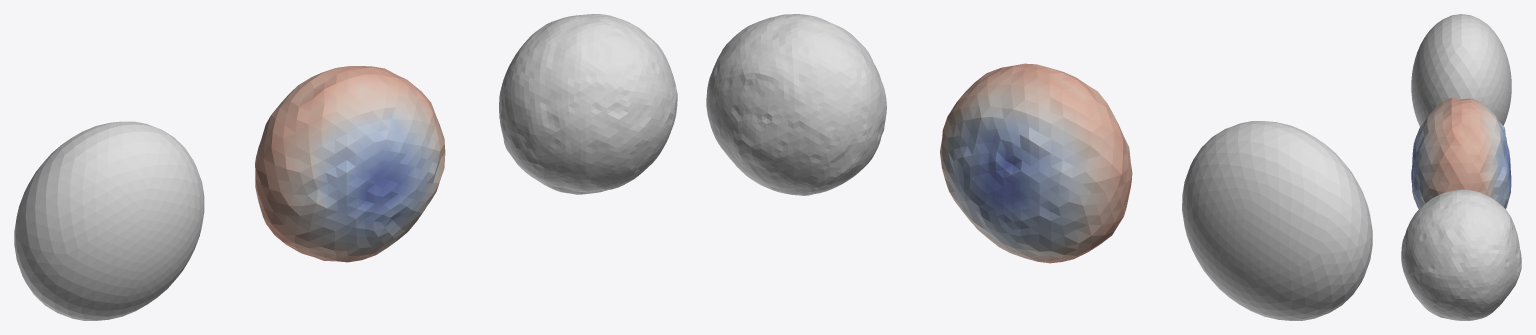
File: gn_fit_compare.glb
3 views of the same model, side by side, from view 1: azimuth 30°, elevation 25°; view 2: azimuth 150°, elevation 25°; view 3: azimuth 270°, elevation 25° (orthographic). The views are drawn at different scales.
Visible parts, largest first — view 1: initial, fitted, star proxy (model 1); view 2: initial, fitted, star proxy (model 1); view 3: star proxy (model 1), fitted, initial.
Part boxes in pixels (x1,y1,x2,y2): initial: (14, 121, 204, 320); fitted: (255, 66, 445, 262); star proxy (model 1): (499, 14, 677, 194); initial: (1182, 121, 1372, 320); fitted: (940, 63, 1132, 263); star proxy (model 1): (706, 14, 886, 195); star proxy (model 1): (1401, 189, 1521, 320); fitted: (1411, 97, 1511, 209); initial: (1411, 14, 1511, 126).
Bounding box in the file's own units: 4.06 × 1.12 × 0.9014.
